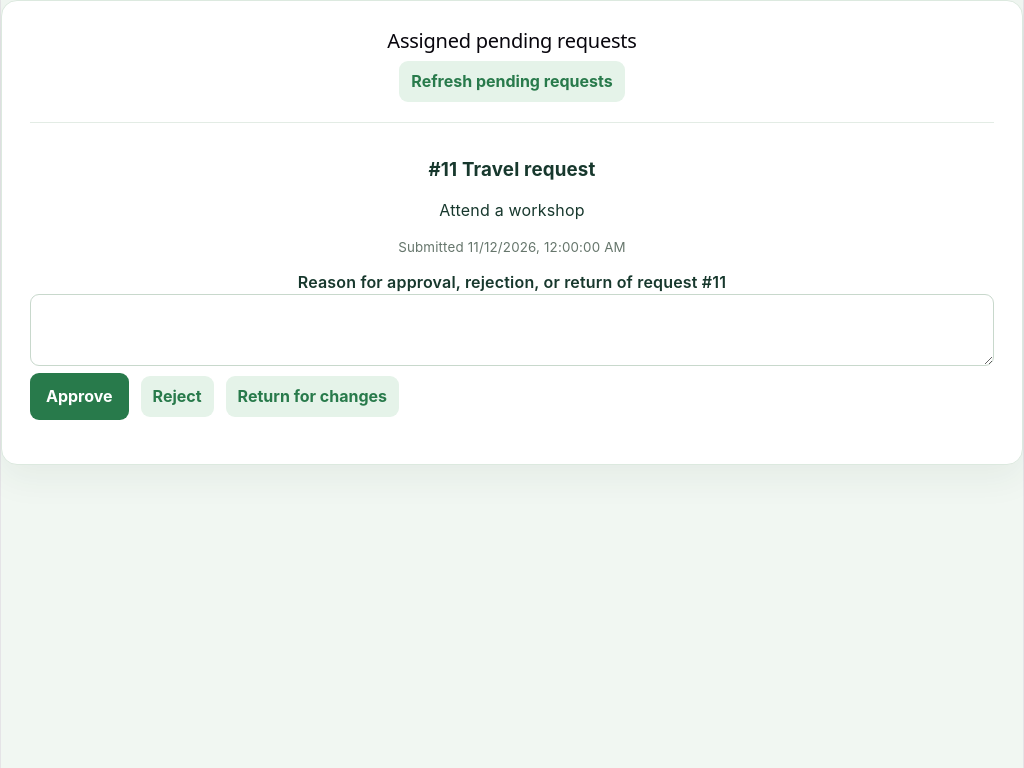
Scenario: F-03 Reviewer workspace through the application › TEST-F03-UI-STRICT-01: an obsolete GET cannot restore a request after APPROVED
Type "Approved within budget" into the text box labelled "Reason for approval, rejection, or return of request #11".
click(512, 330); type("Approved within budget")  # box [30,294,994,366]
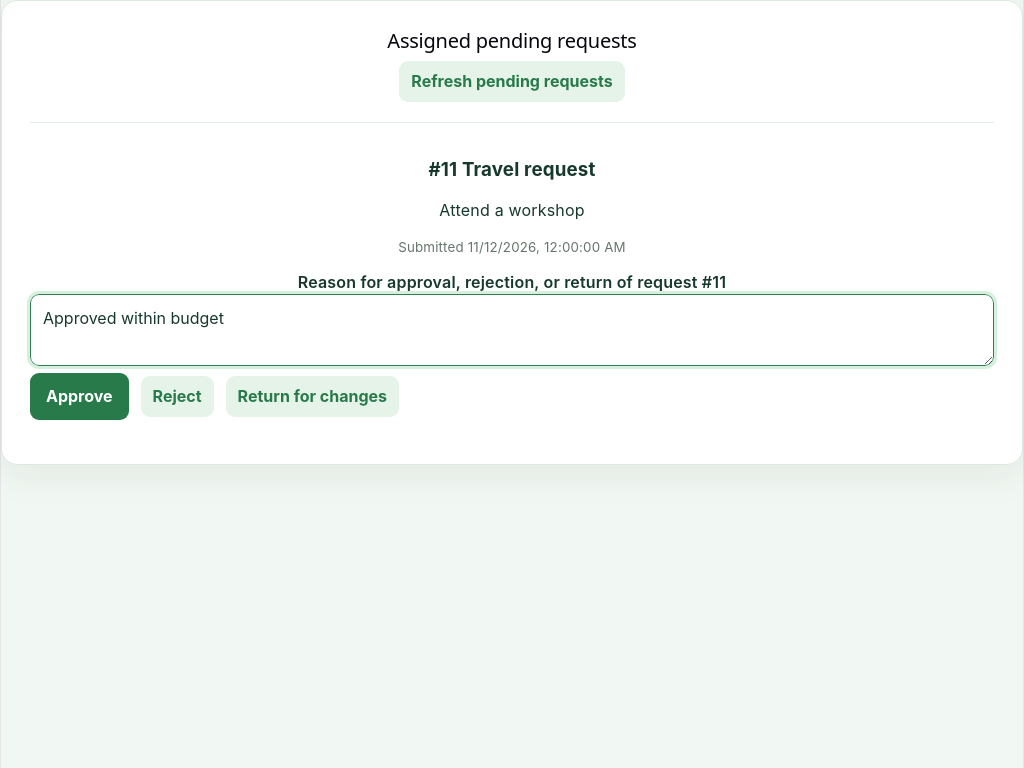
Click the button with aria-label "Approve request #11".
click(79, 396)  # box [30,373,129,420]
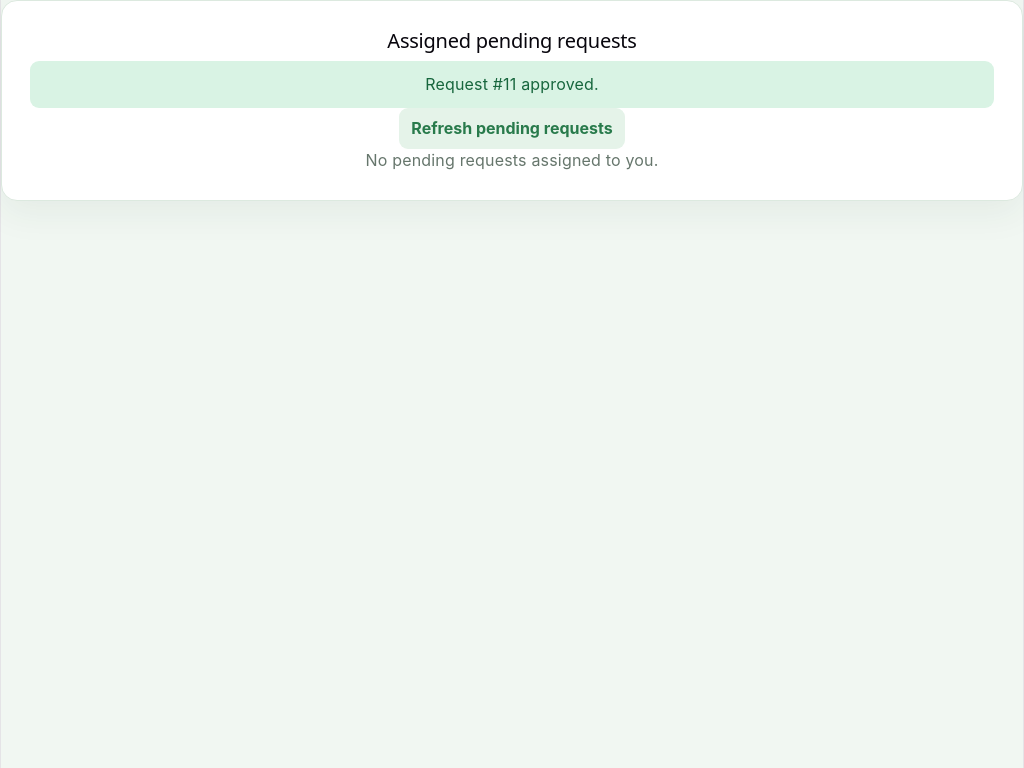
Now the text "No pending requests assigned to you." is shown, box [366,150,658,170]
Now the text "Travel request" is gone
Now the message reads "Request #11 approved.", box [425,74,599,94]
